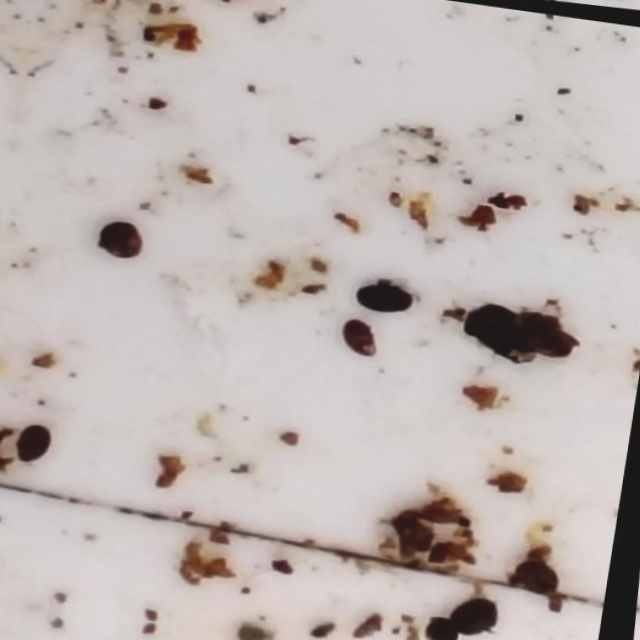varroa: (354, 276, 419, 319), (13, 418, 63, 471), (96, 217, 150, 266), (512, 552, 565, 601), (342, 317, 386, 359)
